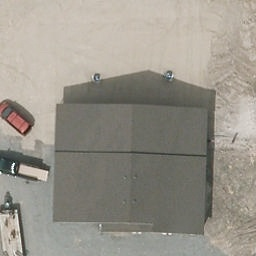car: (0, 100, 34, 139)
pickup: (0, 153, 43, 182)
